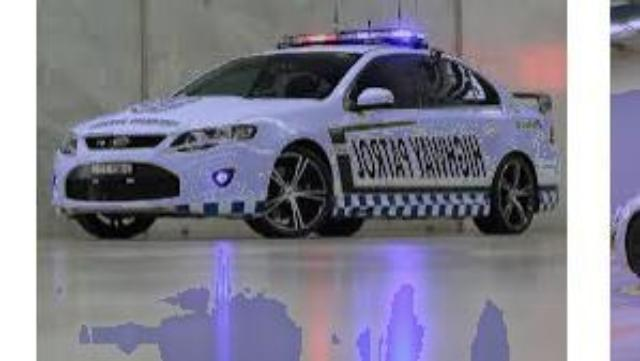police_car: (54, 28, 561, 244)
